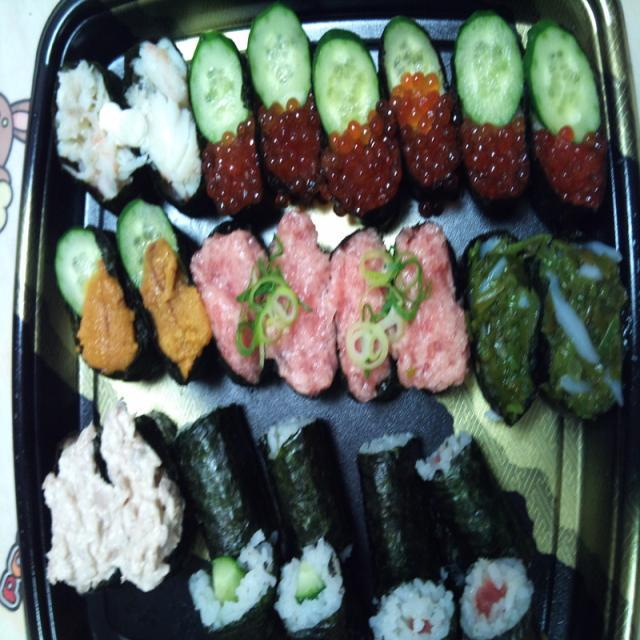Sushi: (51, 407, 546, 639)
